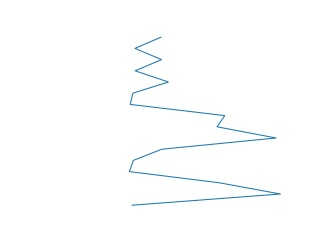majorRiverBedLagDeposit: (123, 35, 281, 209)
